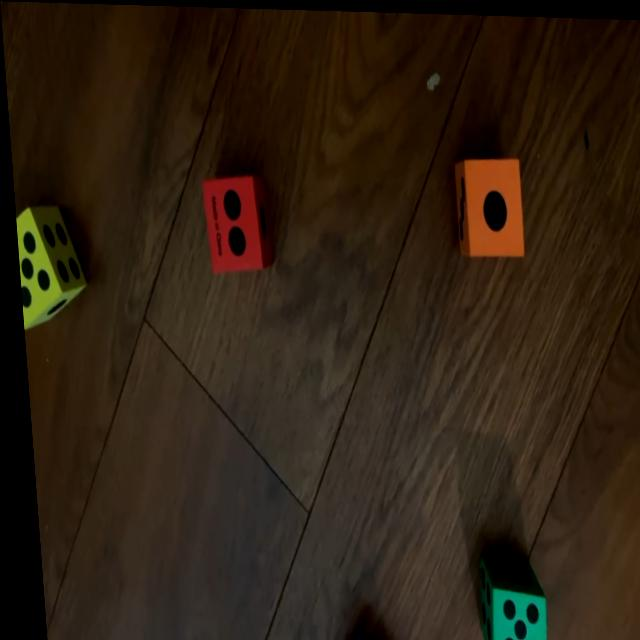red_block: (197, 171, 271, 275)
